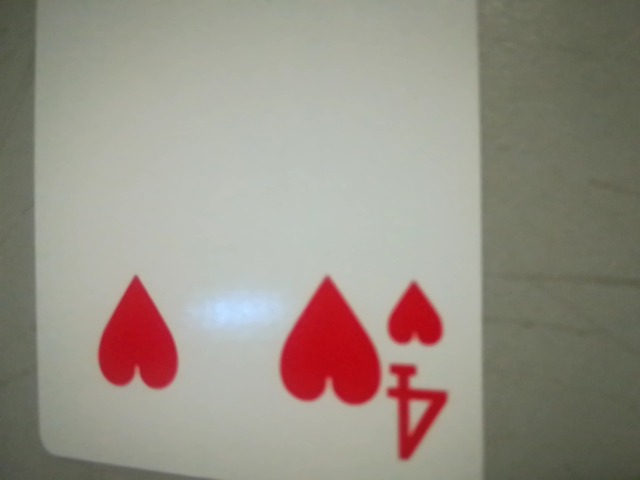hx 4: (371, 267, 469, 473)
